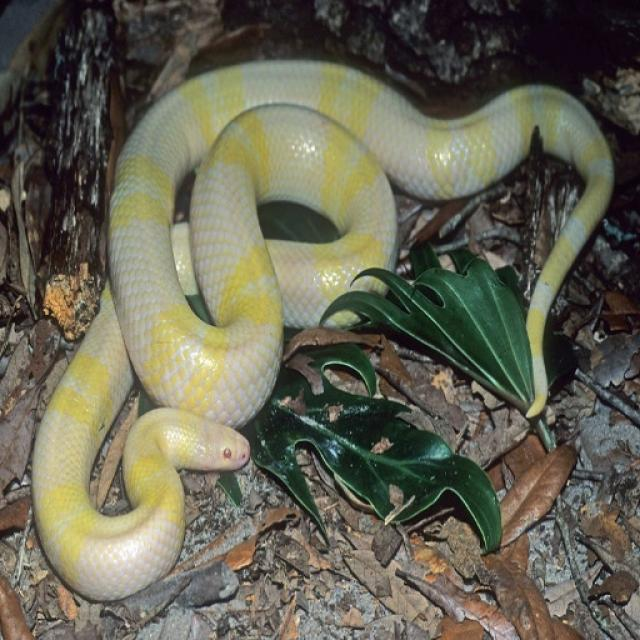snake: (38, 46, 606, 598)
